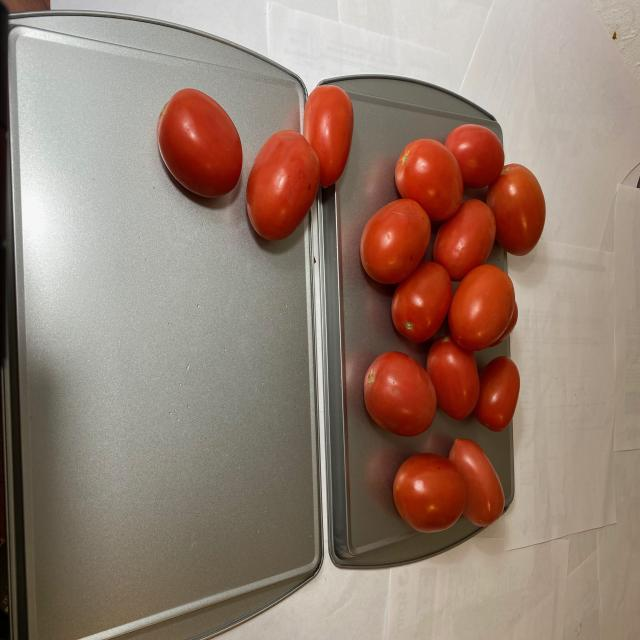tomato: (356, 117, 547, 541), (147, 81, 353, 242)
